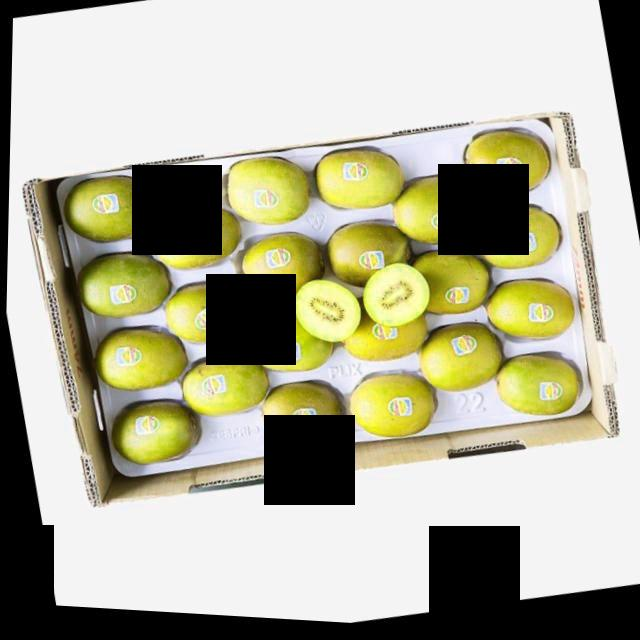kiwi: (48, 174, 162, 261), (211, 153, 317, 245), (66, 250, 175, 338), (456, 119, 559, 210), (85, 322, 193, 408), (139, 202, 247, 288), (386, 169, 489, 259), (412, 316, 514, 406), (103, 397, 208, 484), (304, 143, 409, 229), (232, 226, 331, 316), (475, 272, 581, 356), (154, 279, 259, 363), (330, 295, 435, 378), (320, 217, 420, 304), (342, 367, 443, 452), (468, 198, 569, 283), (254, 377, 353, 463), (403, 243, 500, 330), (489, 347, 585, 430), (242, 310, 340, 390), (176, 353, 274, 432)
